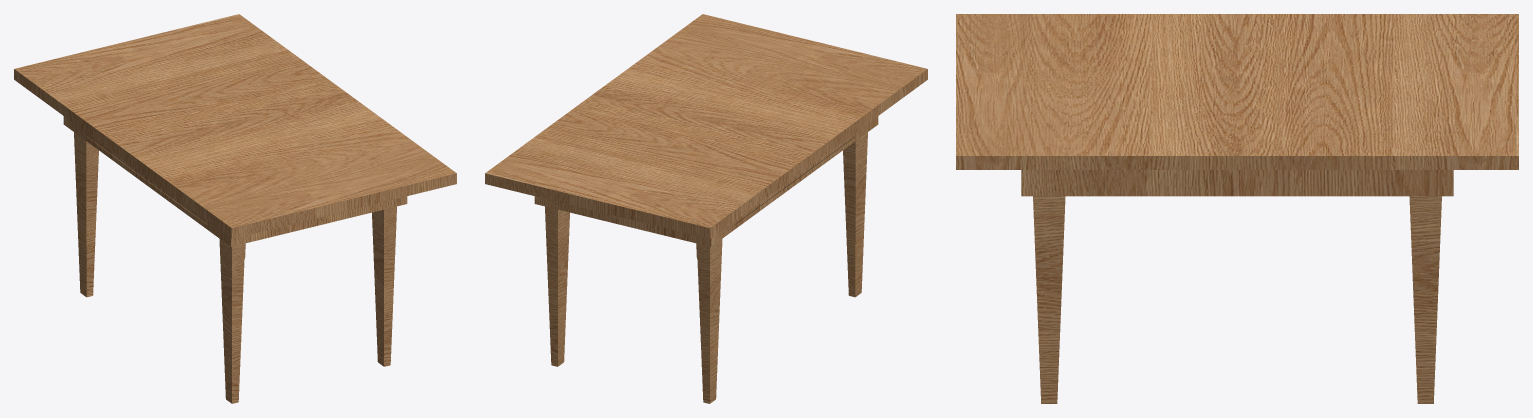
The model's file is side_table.glb.
The picture shows the model from 3 angles, left to right: view 1: azimuth 30°, elevation 25°; view 2: azimuth 150°, elevation 25°; view 3: azimuth 270°, elevation 25°; orthographic projection. The views are drawn at different scales.
Visible parts, largest first — view 1: table; view 2: table; view 3: table.
Boxes of the visible parts, left/top/right/bottom form: table: left=14, top=14, right=456, bottom=403; table: left=485, top=14, right=927, bottom=403; table: left=956, top=14, right=1518, bottom=403.
Bounding box in the file's own units: 1.85 × 1.63 × 3.09.
Materials: 1 (1 with a texture image).
